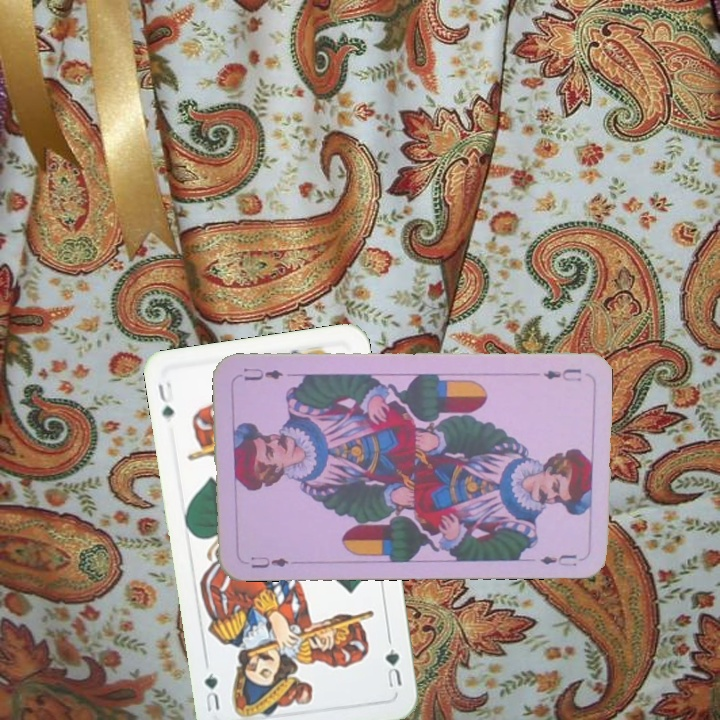EU: (539, 364, 584, 384), (246, 553, 291, 571)
GU: (381, 644, 405, 690), (153, 377, 177, 421)
